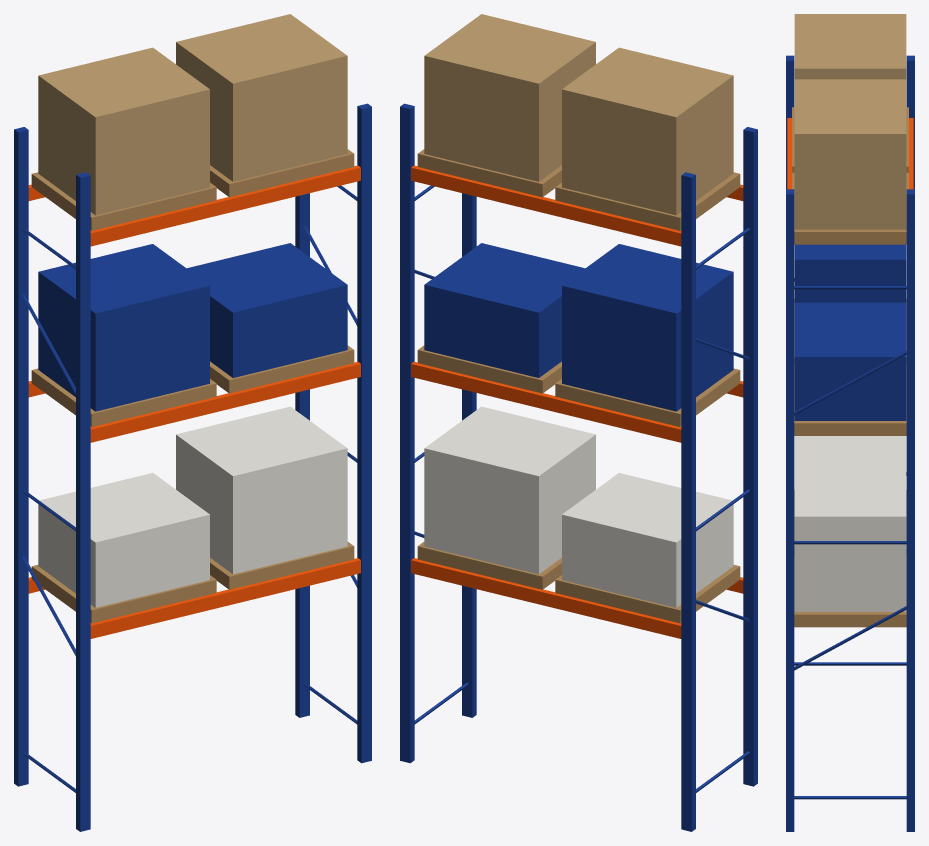
The model's file is industrial.racking.bay_1.glb.
3 renders of one model, left to right at view 1: azimuth 30°, elevation 25°; view 2: azimuth 150°, elevation 25°; view 3: azimuth 270°, elevation 25°, orthographic. The views are drawn at different scales.
Visible parts, largest first — view 1: main__plastic_blue, main__plywood, main__fabric_white, main__softwood, main__hivis_orange; view 2: main__plastic_blue, main__plywood, main__fabric_white, main__softwood, main__hivis_orange; view 3: main__plastic_blue, main__plywood, main__fabric_white, main__softwood, main__hivis_orange.
Part boxes in pixels (x1,y1,x2,y2): main__plastic_blue: (14,103,371,831); main__plywood: (38,14,347,215); main__fabric_white: (38,406,347,607); main__softwood: (31,149,354,623); main__hivis_orange: (28,165,360,638); main__plastic_blue: (400,103,757,831); main__plywood: (424,14,733,215); main__fabric_white: (424,406,733,607); main__softwood: (417,149,740,623); main__hivis_orange: (411,165,743,638); main__plastic_blue: (786,55,914,831); main__plywood: (794,14,906,229); main__fabric_white: (794,436,906,611); main__softwood: (792,107,908,627); main__hivis_orange: (787,118,913,189).
Bounding box in the file's own units: 2.8 × 6.48 × 1.1.
